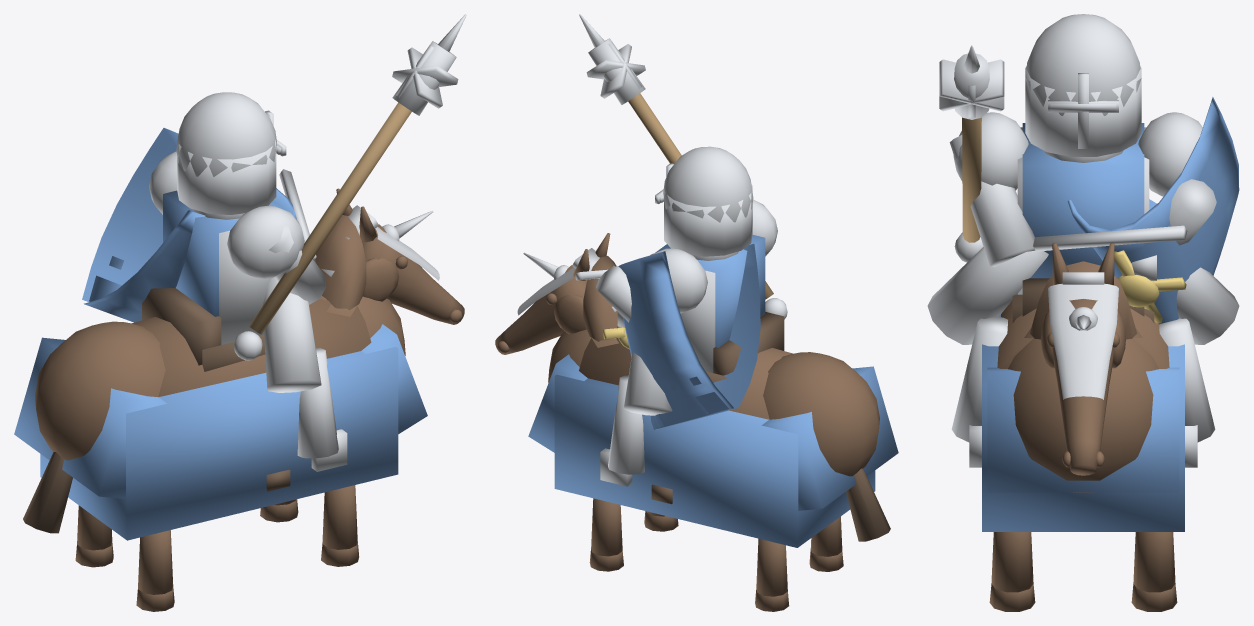
The model's file is armored_knight.glb.
3 views of the same model, side by side, from view 1: azimuth 30°, elevation 25°; view 2: azimuth 150°, elevation 25°; view 3: azimuth 270°, elevation 25° (orthographic). The views are drawn at different scales.
Parts seen in each view (by area): view 1: Horse_Barding, Root, Head, Shield, Leg_R, Pauldrons, Horse_Head, Saddle, Weapon, Tabard_Team, Torso, Horse_Neck (+10 smaller); view 2: Horse_Barding, Root, Shield, Head, Leg_L, Horse_Head, Tabard_Team, Pauldrons, Weapon_Head, Torso, Horse_Leg_Front_L, Horse_Leg_Rear_L (+7 smaller); view 3: Horse_Barding, Head, Root, Tabard_Team, Shield, Leg_R, Chamfron_Plate, Pauldrons, Leg_L, Horse_Head, Arm_R, Weapon_Head (+12 smaller).
Boxes of the visible parts, bbox=[...] form: Horse_Barding: bbox=[14, 324, 427, 540]; Root: bbox=[35, 295, 405, 460]; Head: bbox=[176, 92, 286, 214]; Shield: bbox=[82, 128, 296, 322]; Leg_R: bbox=[262, 277, 347, 471]; Pauldrons: bbox=[149, 151, 304, 278]; Horse_Head: bbox=[362, 224, 464, 324]; Saddle: bbox=[142, 288, 290, 491]; Weapon: bbox=[249, 102, 411, 334]; Tabard_Team: bbox=[163, 190, 285, 316]; Torso: bbox=[166, 191, 271, 344]; Horse_Neck: bbox=[315, 215, 366, 310]; Horse_Barding: bbox=[528, 354, 898, 547]; Root: bbox=[548, 329, 879, 476]; Shield: bbox=[618, 244, 760, 430]; Head: bbox=[655, 146, 753, 256]; Leg_L: bbox=[600, 352, 672, 486]; Horse_Head: bbox=[495, 265, 587, 354]; Tabard_Team: bbox=[655, 235, 765, 347]; Pauldrons: bbox=[650, 200, 777, 313]; Weapon_Head: bbox=[586, 38, 645, 104]; Torso: bbox=[680, 235, 757, 372]; Horse_Leg_Front_L: bbox=[589, 498, 623, 571]; Horse_Leg_Rear_L: bbox=[755, 538, 789, 611]; Horse_Barding: bbox=[982, 314, 1184, 531]; Head: bbox=[1025, 14, 1141, 156]; Root: bbox=[997, 300, 1169, 492]; Tabard_Team: bbox=[1022, 123, 1144, 278]; Shield: bbox=[1067, 97, 1239, 324]; Leg_R: bbox=[927, 247, 1048, 467]; Chamfron_Plate: bbox=[1048, 283, 1118, 399]; Pauldrons: bbox=[953, 112, 1202, 196]; Leg_L: bbox=[1159, 267, 1239, 467]; Horse_Head: bbox=[1041, 299, 1125, 475]; Arm_R: bbox=[949, 135, 1035, 266]; Weapon_Head: bbox=[939, 53, 1004, 119].
Size of the model in its own units: 1.16 by 1.35 by 0.6156.
